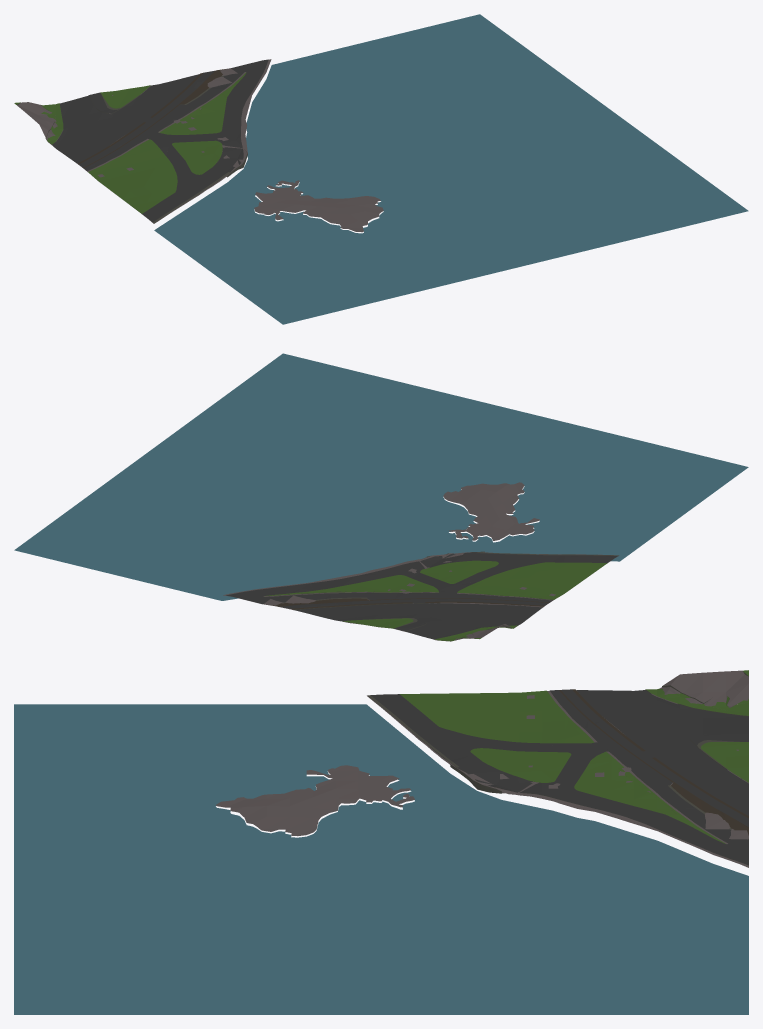
3 views of the same model, one above another, from view 1: azimuth 30°, elevation 25°; view 2: azimuth 150°, elevation 25°; view 3: azimuth 270°, elevation 25° (orthographic). The views are drawn at different scales.
Visible parts, largest first — view 1: c_p04_p12; view 2: c_p04_p12; view 3: c_p04_p12.
Boxes of the visible parts, x1,y1,x2,y2 form: c_p04_p12: (14,14,748,324); c_p04_p12: (14,353,748,641); c_p04_p12: (14,670,748,1014).
Size of the model in its own units: 128 by 6.55 by 128.
